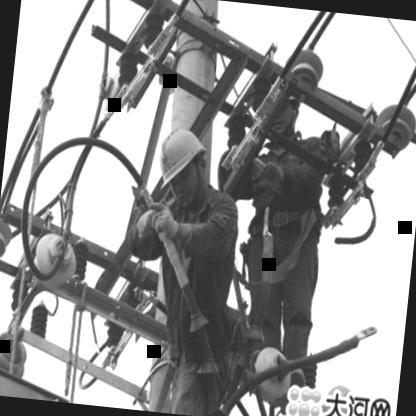helmet: (148, 118, 217, 212)
